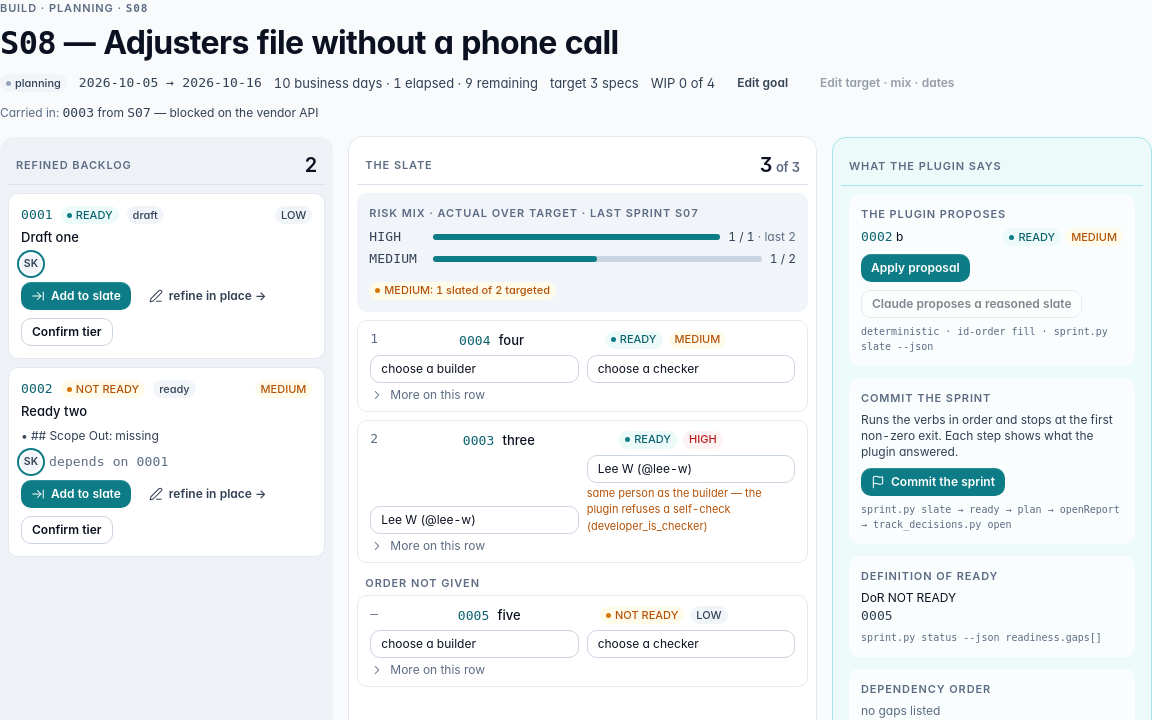
it: Planning: three columns, the plugin's order, the plugin's words › Commit runs ready (the set is unchanged) and stops at its exit 1, showing the gaps verbatim; plan never runs
Expected: the header with test id "planning-header" is shown, [0,1,964,120]
Click the button "Commit the sprint": {"x": 933, "y": 482} [861,468,1005,496]
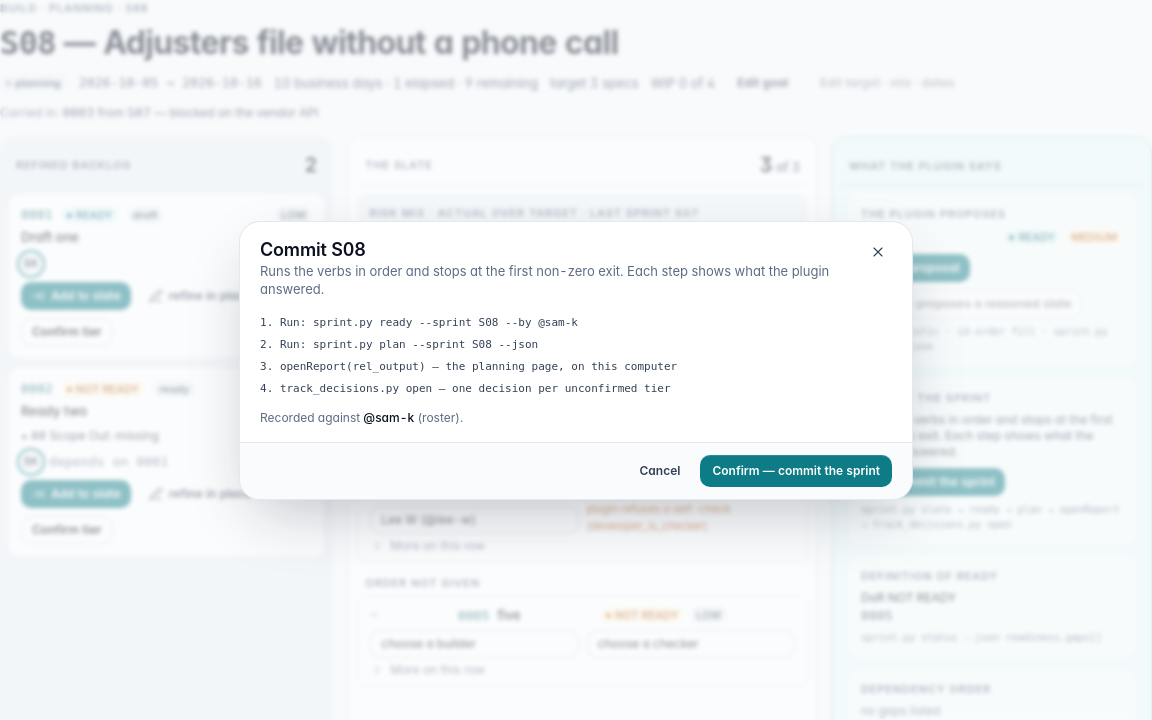
Result: the list with test id "commit-preview" shows "Run: sprint.py ready --sprint S08 --by @sam-k" at [280,316,578,328]
Click the button "Confirm — commit the sprint": {"x": 796, "y": 470} [700,454,892,486]
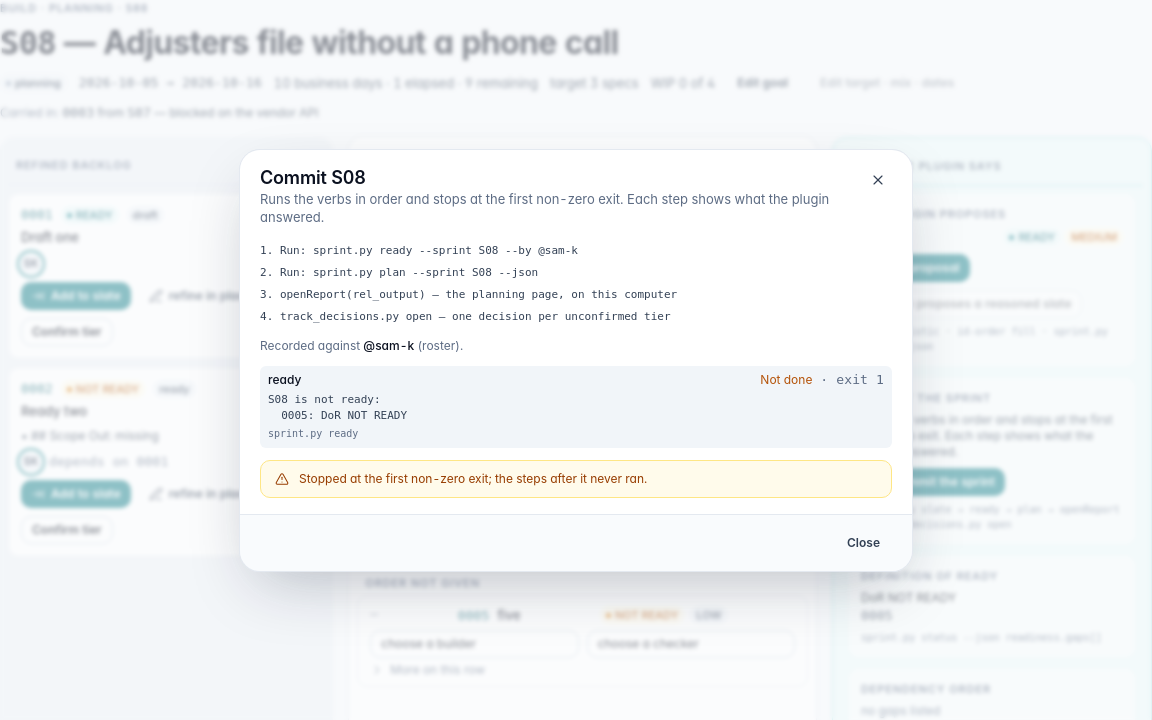
Result: the number of list items with test id "commit-step" is 1 at [260,366,892,448]
Result: the list item with test id "commit-step" shows "Not done" at [760,372,812,386]
Result: the list item with test id "commit-step" shows "0005: DoR NOT READY" at [268,392,407,422]
